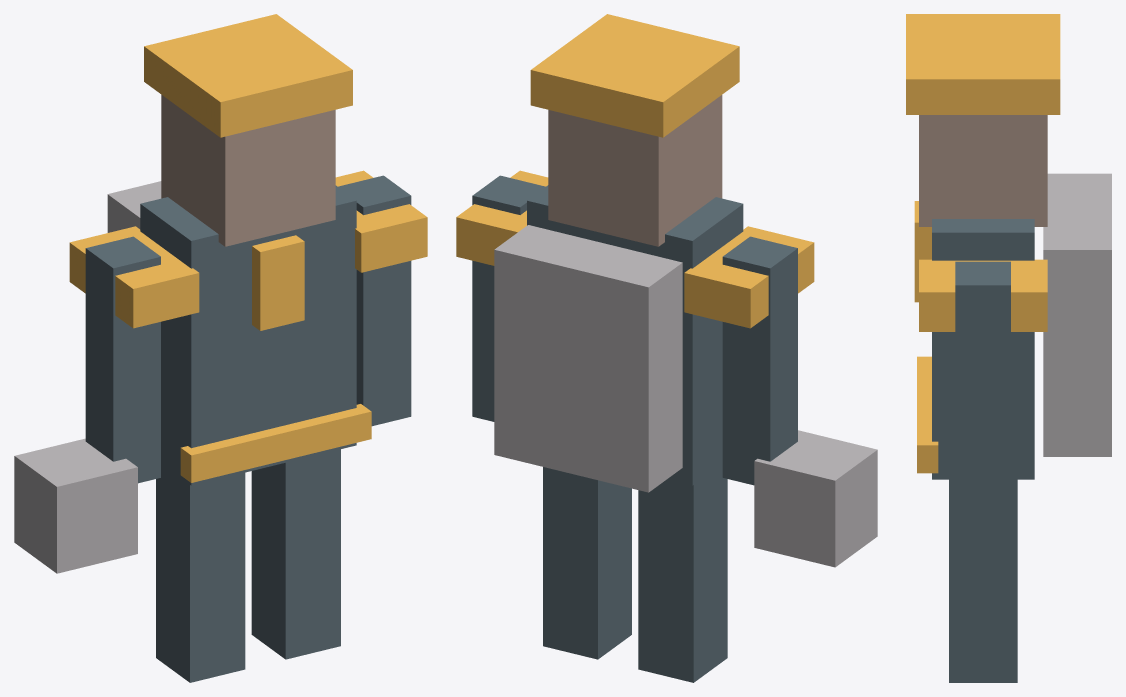
Rendered from 16_nyra_frostrelay_tamer_under_recovery.glb.
3 views of the same model, side by side, from view 1: azimuth 30°, elevation 25°; view 2: azimuth 150°, elevation 25°; view 3: azimuth 270°, elevation 25° (orthographic).
Visible parts, largest first — view 1: Nyra Frostrelay, Tamer under Recovery; view 2: Nyra Frostrelay, Tamer under Recovery; view 3: Nyra Frostrelay, Tamer under Recovery.
Boxes of the visible parts, bbox=[...] form: Nyra Frostrelay, Tamer under Recovery: bbox=[14, 14, 427, 682]; Nyra Frostrelay, Tamer under Recovery: bbox=[456, 14, 877, 682]; Nyra Frostrelay, Tamer under Recovery: bbox=[906, 14, 1111, 682].
Bounding box in the file's own units: 1.03 × 1.59 × 0.4957.
